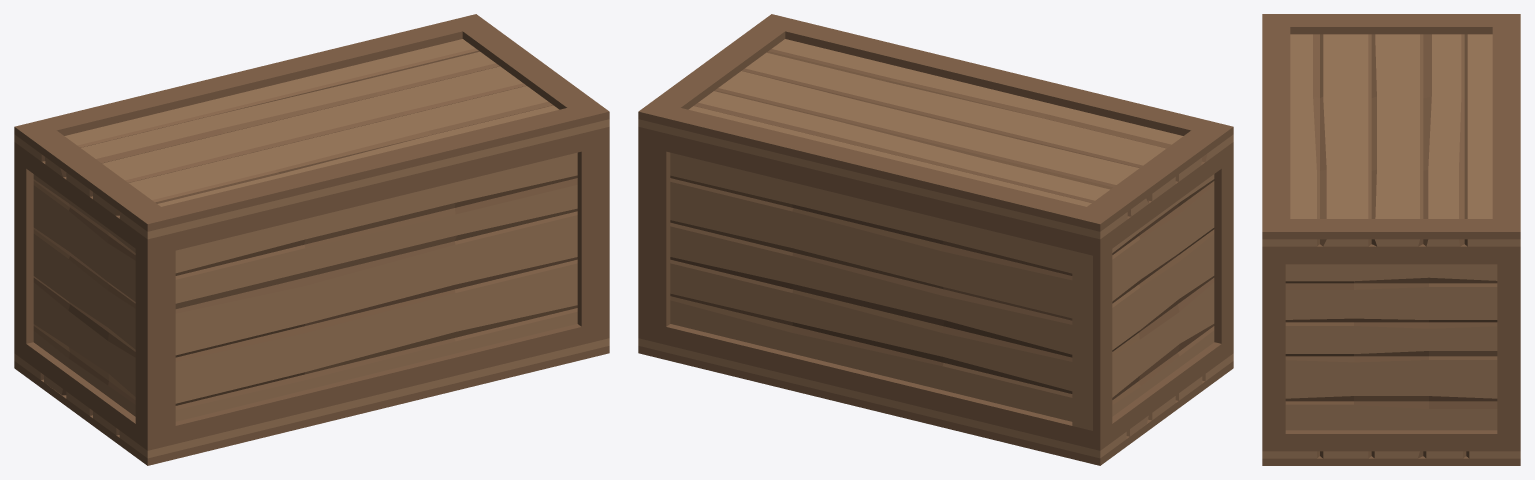
The model's file is SM_Wooden_Box_B.gltf.
3 renders of one model, left to right at view 1: azimuth 30°, elevation 25°; view 2: azimuth 150°, elevation 25°; view 3: azimuth 270°, elevation 25°, orthographic. The views are drawn at different scales.
Visible parts, largest first — view 1: SM_Wooden_Box_B, SM_Wooden_Box_B_Lid; view 2: SM_Wooden_Box_B, SM_Wooden_Box_B_Lid; view 3: SM_Wooden_Box_B_Lid, SM_Wooden_Box_B.
Boxes of the visible parts, x1,y1,x2,y2 form: SM_Wooden_Box_B: (14, 126, 609, 465); SM_Wooden_Box_B_Lid: (14, 14, 609, 239); SM_Wooden_Box_B: (638, 126, 1233, 465); SM_Wooden_Box_B_Lid: (638, 14, 1233, 239); SM_Wooden_Box_B_Lid: (1262, 14, 1520, 246); SM_Wooden_Box_B: (1262, 244, 1520, 465).
Bounding box in the file's own units: 2 × 1 × 1.
1 material, 1 textured.
